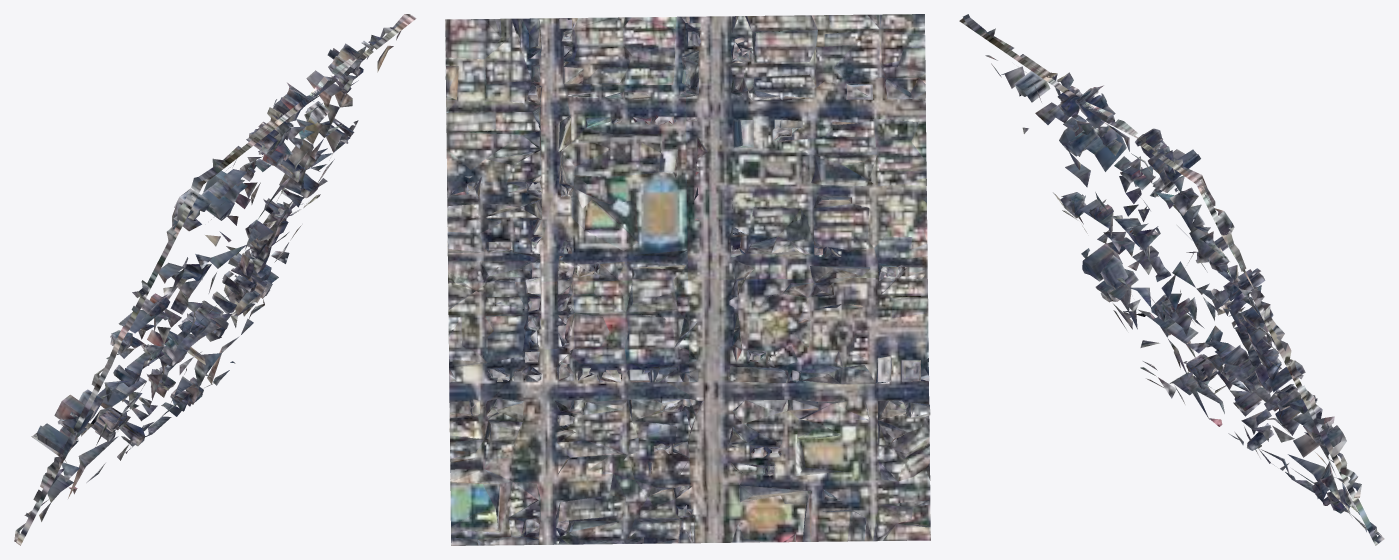
The picture shows the model from 3 angles, left to right: view 1: azimuth 30°, elevation 25°; view 2: azimuth 150°, elevation 25°; view 3: azimuth 270°, elevation 25°; orthographic projection. The views are drawn at different scales.
Bounding box in the file's own units: 1224 × 1139 × 1043.
1 material, 1 textured.
